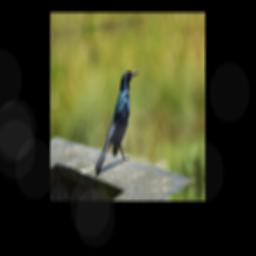Crow: (88, 68, 144, 177)
